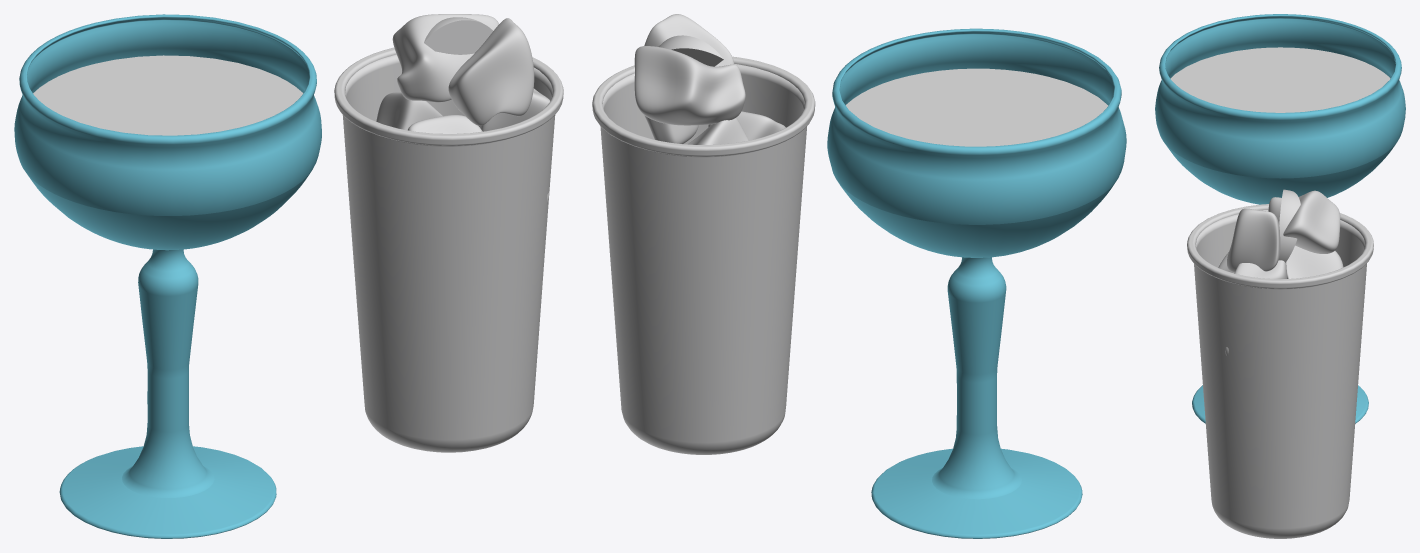
File: uploads_files_4841778_coupe+glass+3d+model_kathzerrato_.fbx
The picture shows the model from 3 angles, left to right: view 1: azimuth 30°, elevation 25°; view 2: azimuth 150°, elevation 25°; view 3: azimuth 270°, elevation 25°; orthographic projection. The views are drawn at different scales.
Parts seen in each view (by area): view 1: glass, metal cup, liquid, ice cube (2), ice cube (3), sliced lemon, ice cube (4), ice cube (5), ice cube (6); view 2: glass, metal cup, liquid, ice cube (3), ice cube (2), sliced lemon, ice cube (4), ice cube (5), ice cube (6); view 3: metal cup, glass, liquid, ice cube (3), ice cube (2), ice cube (4), sliced lemon, ice cube (6).
Boxes of the visible parts, left/top/right/bottom form: glass: left=14, top=14, right=321, bottom=538; metal cup: left=334, top=47, right=563, bottom=452; liquid: left=33, top=55, right=303, bottom=135; ice cube (2): left=448, top=18, right=534, bottom=125; ice cube (3): left=392, top=14, right=498, bottom=102; sliced lemon: left=424, top=17, right=492, bottom=54; ice cube (4): left=376, top=92, right=442, bottom=130; ice cube (5): left=408, top=115, right=482, bottom=133; ice cube (6): left=479, top=88, right=550, bottom=131; glass: left=827, top=28, right=1126, bottom=538; metal cup: left=592, top=56, right=815, bottom=454; liquid: left=846, top=68, right=1108, bottom=146; ice cube (3): left=634, top=46, right=745, bottom=125; ice cube (2): left=644, top=14, right=734, bottom=66; sliced lemon: left=658, top=35, right=723, bottom=66; ice cube (4): left=688, top=117, right=748, bottom=144; ice cube (5): left=708, top=111, right=785, bottom=140; ice cube (6): left=644, top=115, right=698, bottom=143; metal cup: left=1187, top=204, right=1373, bottom=538; glass: left=1155, top=14, right=1405, bottom=423; liquid: left=1170, top=47, right=1390, bottom=112; ice cube (3): left=1268, top=190, right=1340, bottom=253; ice cube (2): left=1227, top=208, right=1280, bottom=272; ice cube (4): left=1286, top=245, right=1343, bottom=278; sliced lemon: left=1278, top=189, right=1300, bottom=262; ice cube (6): left=1234, top=260, right=1286, bottom=278.
Bounding box in the file's own units: 229 × 178 × 119.
